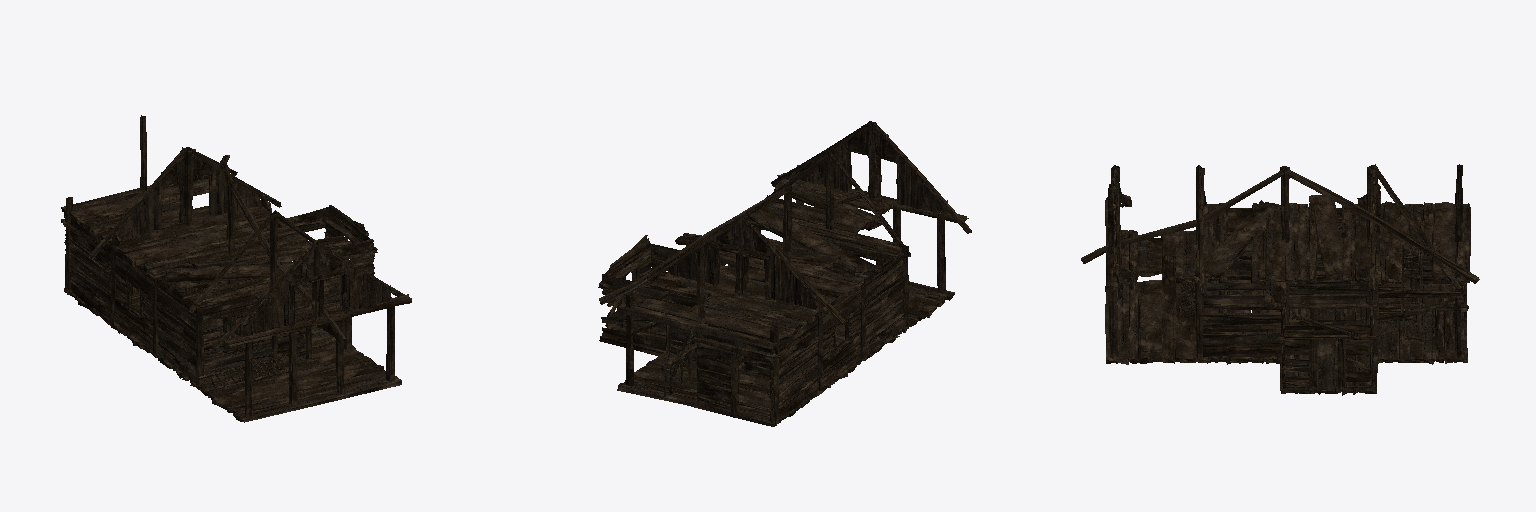
The picture shows the model from 3 angles: view 1: azimuth 30°, elevation 25°; view 2: azimuth 150°, elevation 25°; view 3: azimuth 270°, elevation 25°; orthographic projection.
Parts seen in each view (by area): view 1: Cylinder.000; view 2: Cylinder.000; view 3: Cylinder.000.
Boxes of the visible parts, x1,y1,x2,y2 form: Cylinder.000: [61, 115, 411, 422]; Cylinder.000: [598, 121, 971, 426]; Cylinder.000: [1081, 164, 1479, 395].
Size of the model in its own units: 13.42 by 8.39 by 18.77.
1 materials, 1 textured.